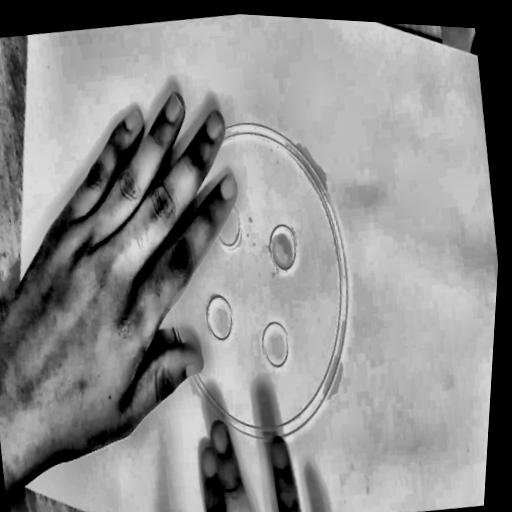bottom_right: (10, 470, 19, 484)
button: (138, 78, 371, 489)
